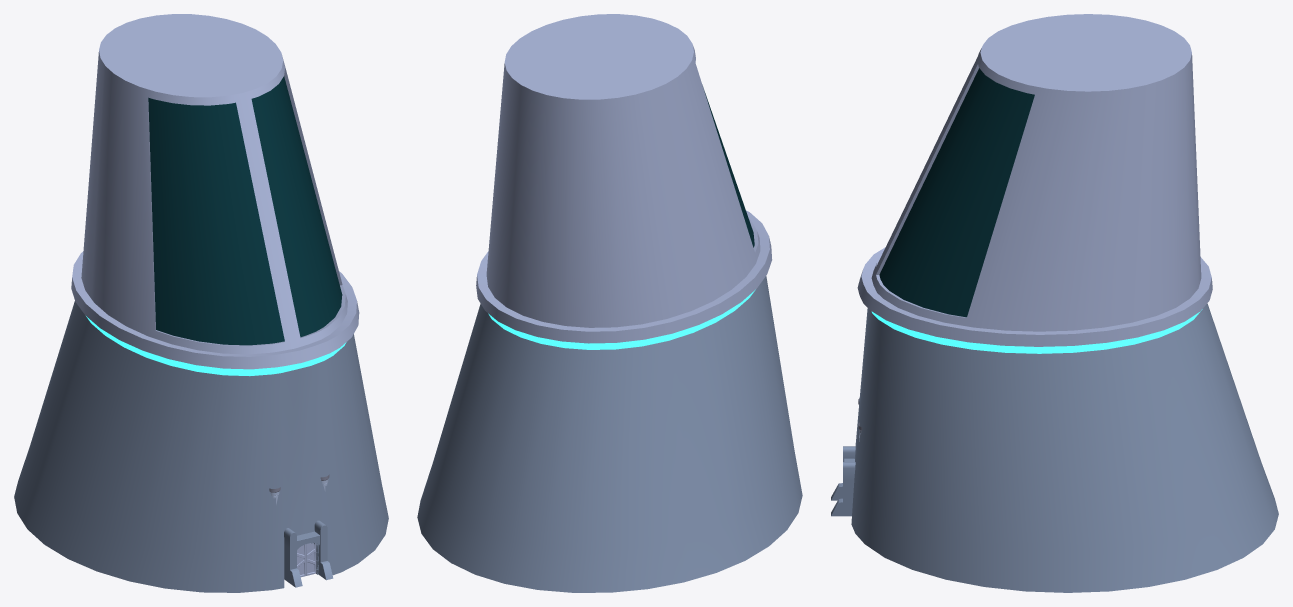
The model's file is Blocking_TourFinale_Passe.fbx.
The picture shows the model from 3 angles, left to right: view 1: azimuth 30°, elevation 25°; view 2: azimuth 150°, elevation 25°; view 3: azimuth 270°, elevation 25°; orthographic projection. The views are drawn at different scales.
Visible parts, largest first — view 1: TourFinalPart2.001, ContourGrandePorteHultra.Low.003; view 2: TourFinalPart2.001; view 3: TourFinalPart2.001, ContourGrandePorteHultra.Low.003.
Part boxes in pixels (box(x1,y1,x2,y2)): TourFinalPart2.001: box(14, 14, 388, 592); ContourGrandePorteHultra.Low.003: box(284, 520, 333, 587); TourFinalPart2.001: box(417, 14, 802, 592); TourFinalPart2.001: box(851, 14, 1278, 592); ContourGrandePorteHultra.Low.003: box(831, 446, 855, 516).
Size of the model in its own units: 65.11 by 88.93 by 78.09.
